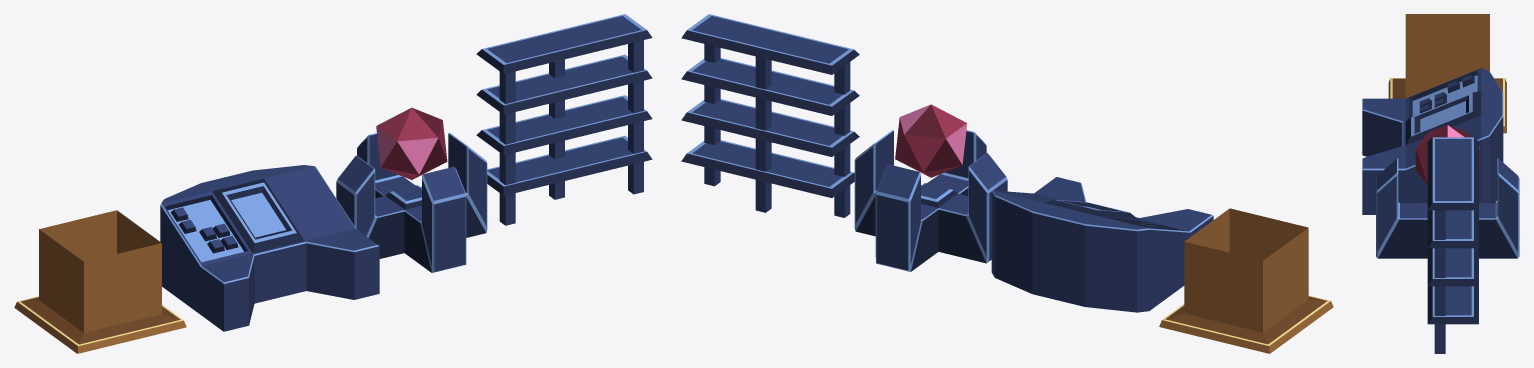
The model's file is Props1.fbx.
3 renders of one model, left to right at view 1: azimuth 30°, elevation 25°; view 2: azimuth 150°, elevation 25°; view 3: azimuth 270°, elevation 25°, orthographic. The views are drawn at different scales.
Parts seen in each view (by area): view 1: Prop_Panel, Prop, Prop_Col, Prop_Ico, Prop_Ico.001; view 2: Prop, Prop_Panel, Prop_Col, Prop_Ico, Prop_Ico.001; view 3: Prop_Panel, Prop, Prop_Ico, Prop_Col, Prop_Ico.001.
Boxes of the visible parts, <box> form: Prop_Panel: <box>160,165,379,331</box>; Prop: <box>476,14,652,225</box>; Prop_Col: <box>14,210,186,353</box>; Prop_Ico: <box>336,133,487,272</box>; Prop_Ico.001: <box>376,107,447,179</box>; Prop: <box>681,14,859,217</box>; Prop_Panel: <box>991,177,1213,312</box>; Prop_Col: <box>1159,208,1333,353</box>; Prop_Ico: <box>854,130,1007,271</box>; Prop_Ico.001: <box>895,104,967,177</box>; Prop_Panel: <box>1362,68,1503,214</box>; Prop: <box>1427,137,1478,353</box>; Prop_Ico: <box>1376,158,1519,258</box>; Prop_Col: <box>1388,14,1506,133</box>; Prop_Ico.001: <box>1415,125,1479,184</box>.
Bounding box in the file's own units: 7.66 × 1.99 × 1.87.
